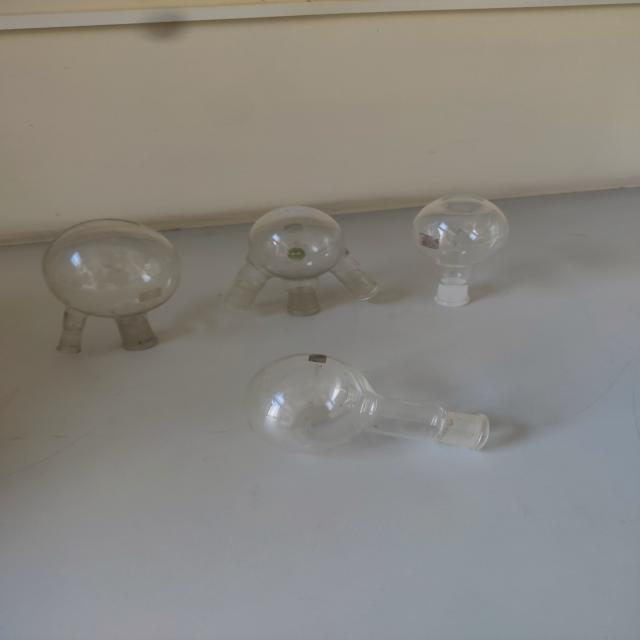Round_Bottom_Flask_Borosilicate_Glass_1_Neck: (229, 338, 541, 483), (393, 173, 548, 324)
Round_Bottom_Flask_Borosilicate_Glass_2_Neck: (26, 197, 193, 380)
Round_Bottom_Flask_Borosilicate_Glass_3_Neck: (208, 173, 394, 334)
